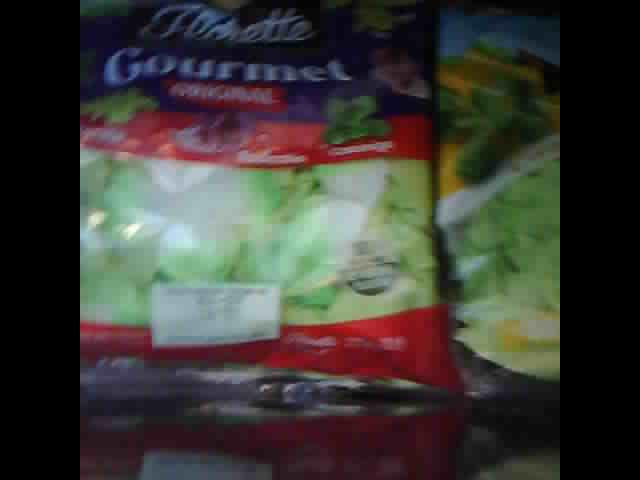florette: (82, 4, 465, 417), (428, 6, 559, 411)
